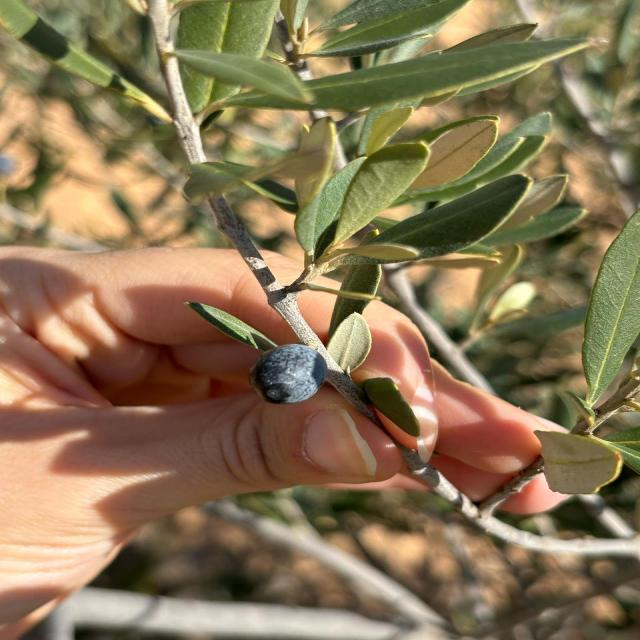Healthy: (323, 142, 430, 255), (250, 344, 331, 404)
